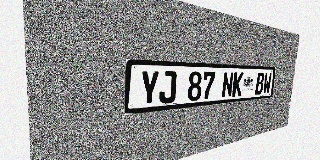7: (201, 71, 215, 100)
8: (187, 71, 203, 101)
B: (255, 72, 265, 95)
J: (159, 71, 177, 104)
K: (232, 72, 244, 97)
N: (221, 72, 234, 98)
W: (262, 73, 272, 94)
Y: (139, 70, 159, 106)
